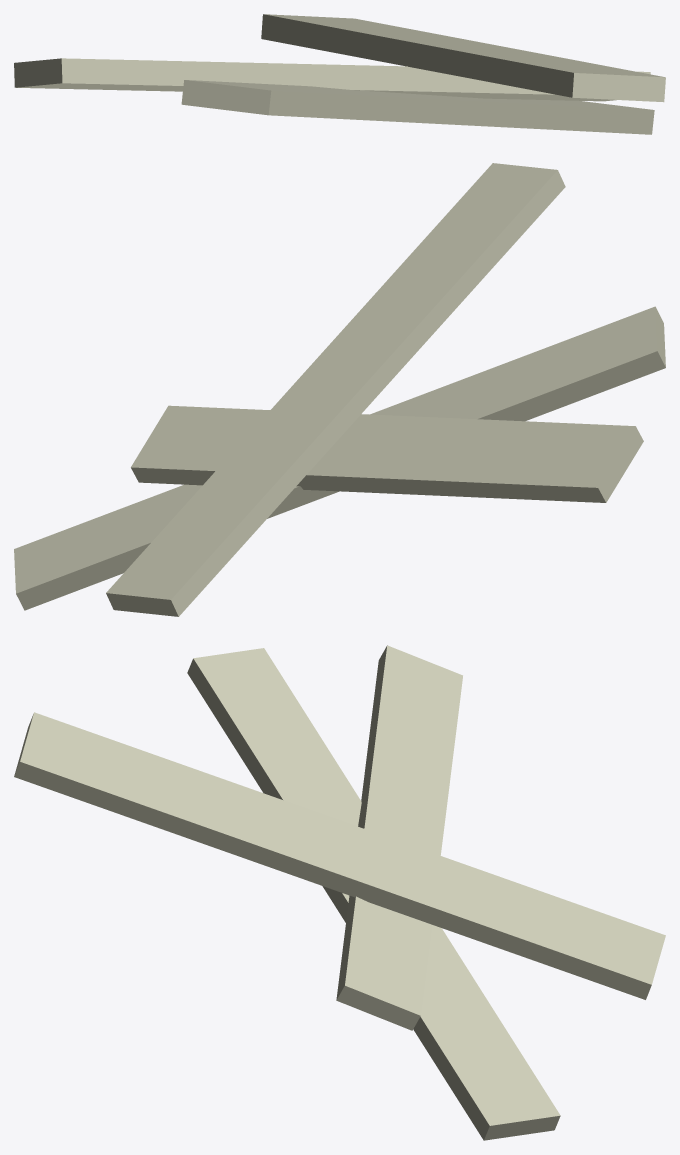
The model's file is WoodPlanks.fbx.
3 views of the same model, one above another, from view 1: azimuth 30°, elevation 25°; view 2: azimuth 150°, elevation 25°; view 3: azimuth 270°, elevation 25° (orthographic). The views are drawn at different scales.
Visible parts, largest first — view 1: woodPlanks; view 2: woodPlanks; view 3: woodPlanks.
Part boxes in pixels (box(x1,y1,x2,y2)): woodPlanks: box(14, 14, 665, 134); woodPlanks: box(14, 163, 665, 616); woodPlanks: box(14, 645, 665, 1140).
Size of the model in its own units: 2.25 by 1.15 by 2.3.
